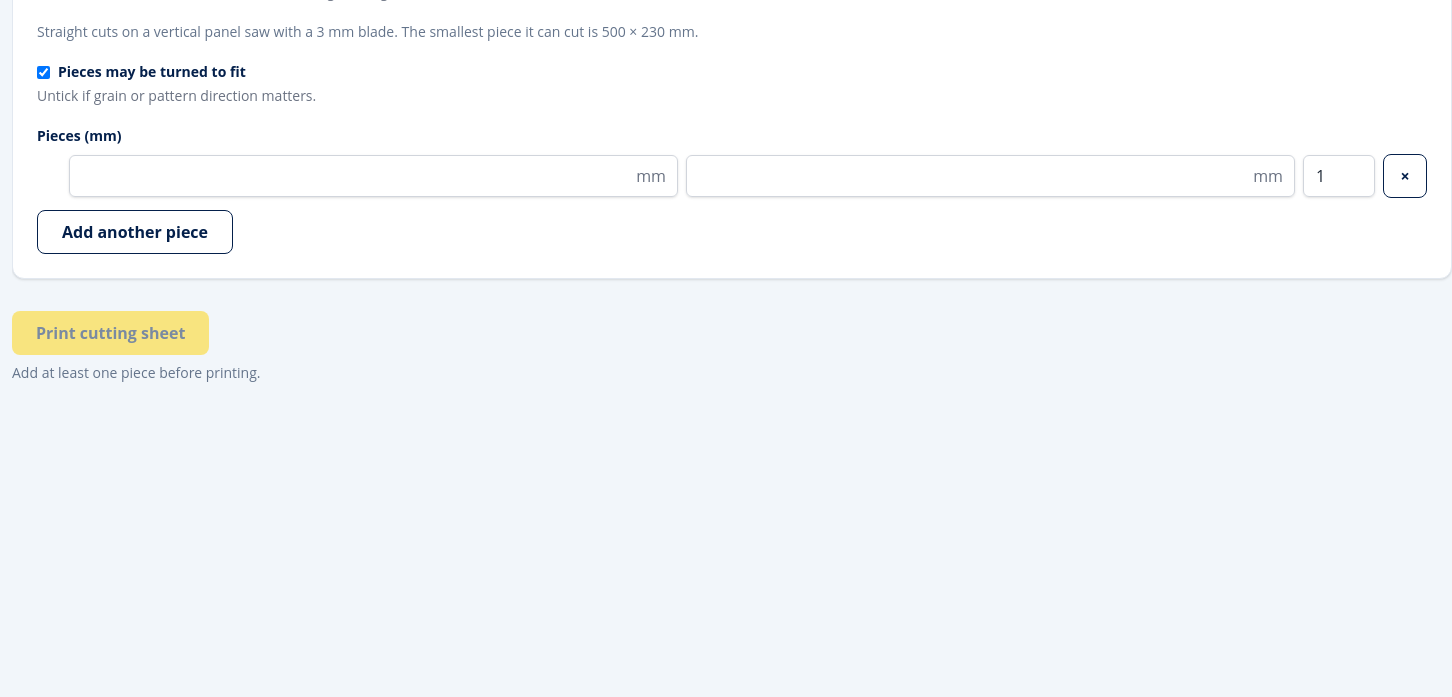
Test: BoardCuttingCalculator › draws the plan and enables printing once a piece is entered
This screenshot has width=1452, height=697.
Type "800" into the number field named "Width of new piece". click: (374, 176)
box: [69,155,678,197]
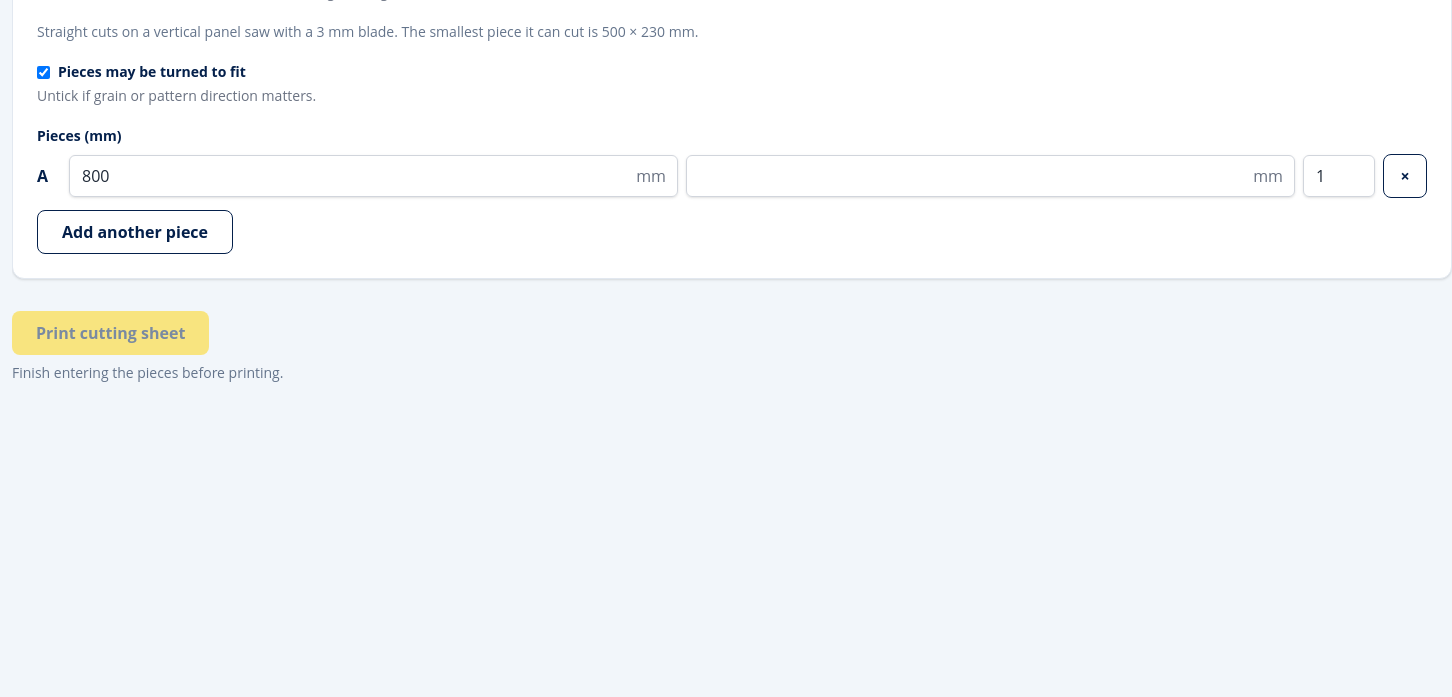
Type "600" into the number field named "Height of piece A". click: (990, 176)
box: [686,155,1295,197]
(page scrolled)
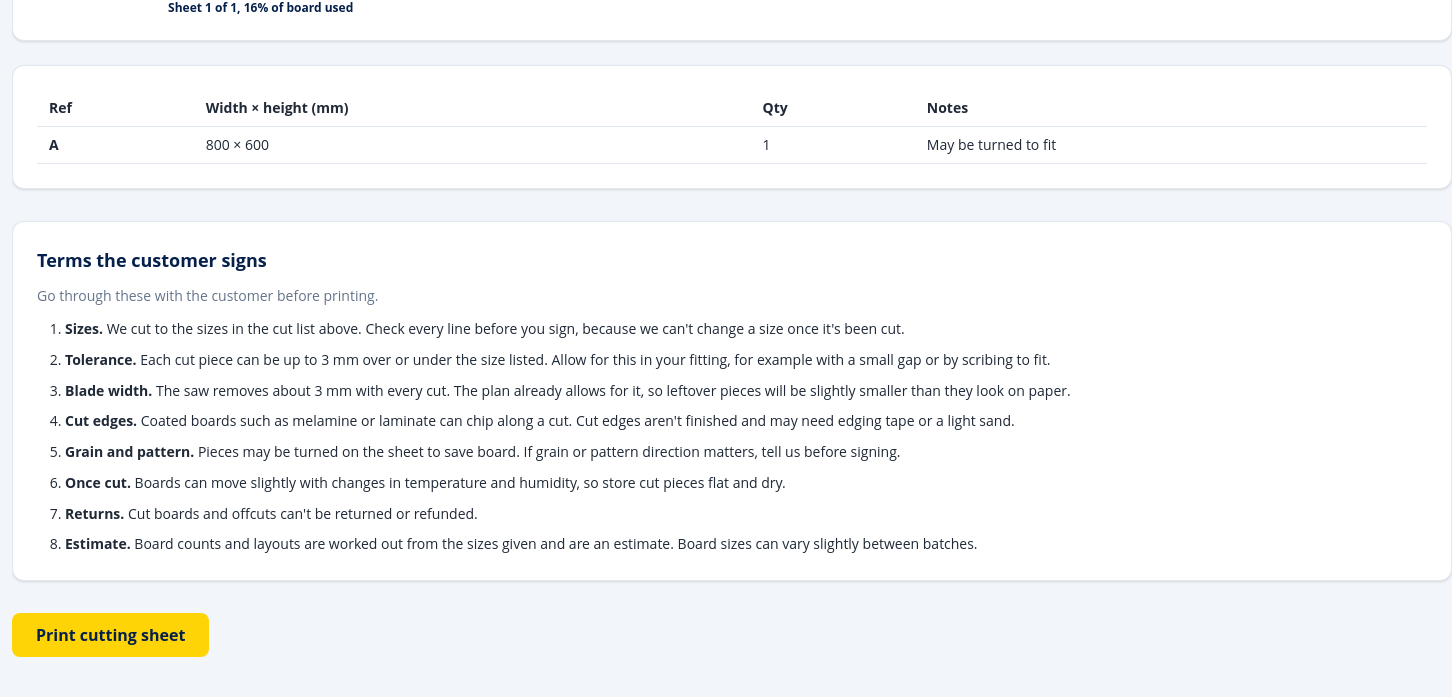
Expected: the button "Print cutting sheet" is enabled, [12,613,209,657]
